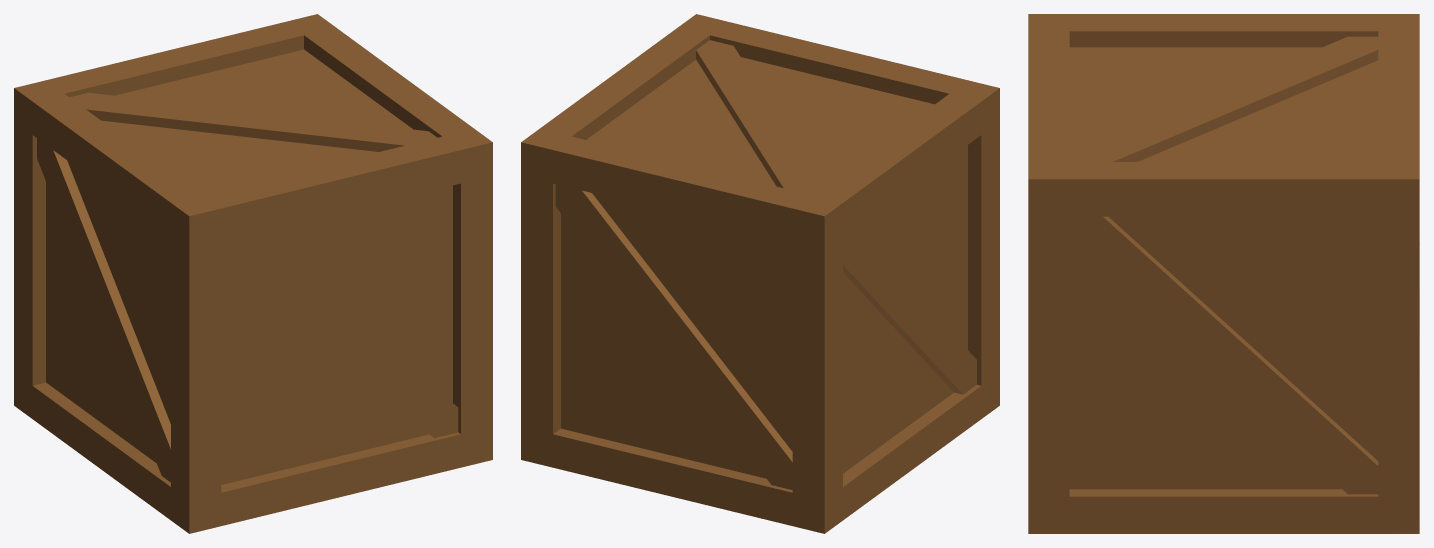
Rendered from 1 Basic Crate.gltf.
3 views of the same model, side by side, from view 1: azimuth 30°, elevation 25°; view 2: azimuth 150°, elevation 25°; view 3: azimuth 270°, elevation 25° (orthographic). The views are drawn at different scales.
Visible parts, largest first — view 1: Cube; view 2: Cube; view 3: Cube.
Boxes of the visible parts, x1,y1,x2,y2 form: Cube: (14,14,492,533); Cube: (521,14,999,533); Cube: (1028,14,1419,533).
Bounding box in the file's own units: 2 × 2 × 2.
Materials: 1 (1 with a texture image).
